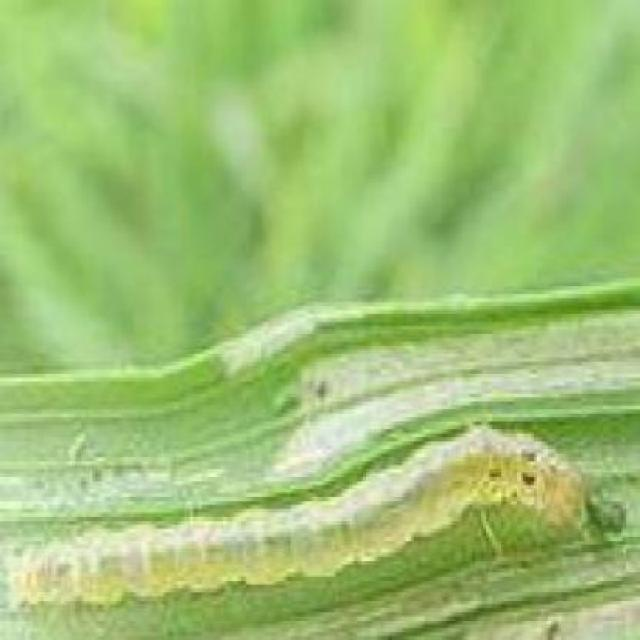leaf-folder: (28, 420, 632, 609)
